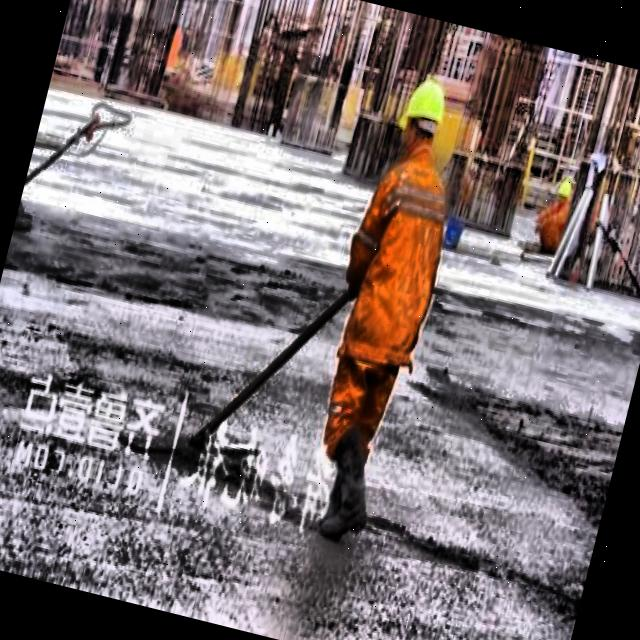helmet: (390, 70, 452, 168), (552, 173, 576, 216)
